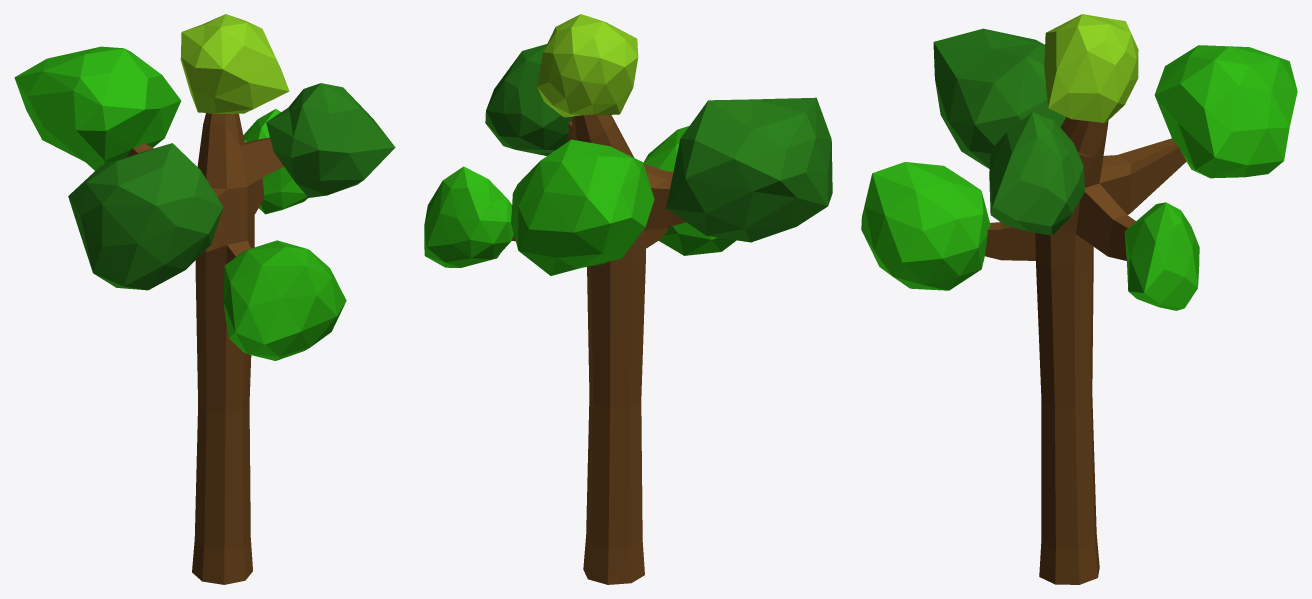
The model's file is tree.fbx.
3 renders of one model, left to right at view 1: azimuth 30°, elevation 25°; view 2: azimuth 150°, elevation 25°; view 3: azimuth 270°, elevation 25°, orthographic. The views are drawn at different scales.
Visible parts, largest first — view 1: Icosphere.002; view 2: Icosphere.002; view 3: Icosphere.002.
Boxes of the visible parts, x1,y1,x2,y2 form: Icosphere.002: [14, 14, 395, 584]; Icosphere.002: [424, 14, 832, 584]; Icosphere.002: [861, 14, 1297, 584].
Bounding box in the file's own units: 596 × 975 × 687.
